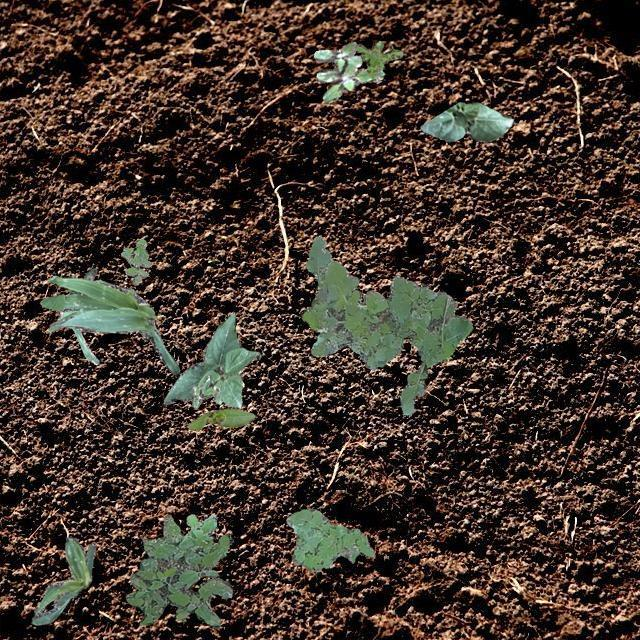crop: (40, 274, 178, 374), (162, 312, 260, 408), (30, 536, 94, 624), (57, 266, 107, 364), (420, 102, 512, 140), (186, 408, 254, 428)
weed: (300, 235, 472, 416), (125, 514, 232, 628), (284, 508, 374, 570), (312, 40, 383, 101), (142, 514, 184, 562), (354, 40, 402, 78), (120, 238, 150, 284), (190, 374, 222, 408)
